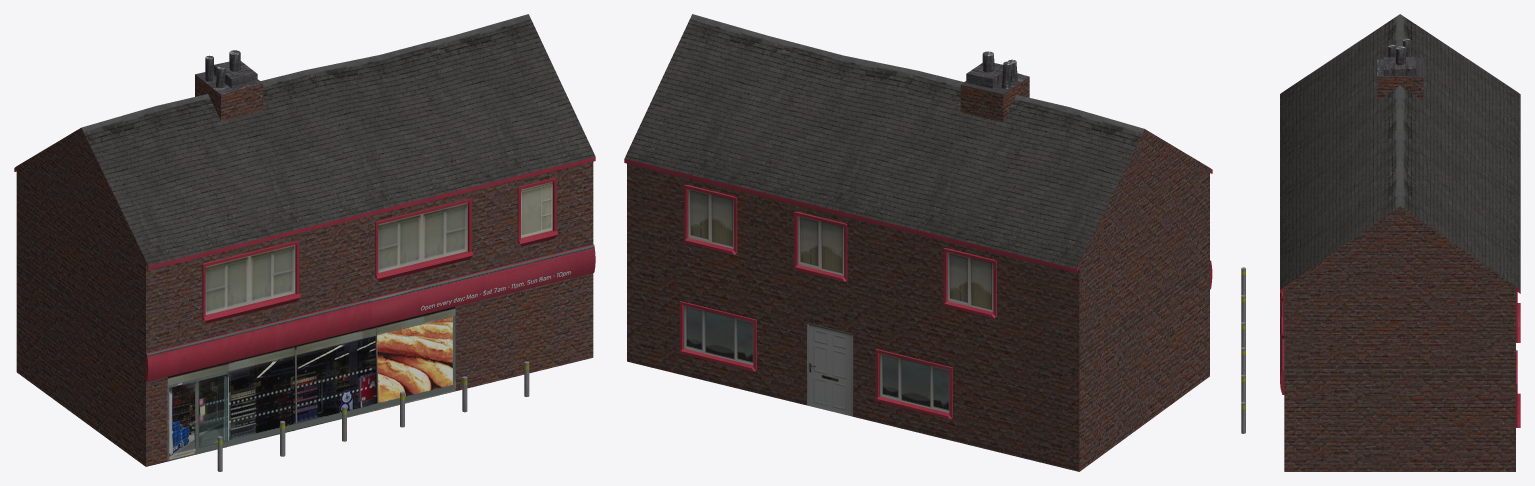
File: ukcommercialfood14.FBX
The picture shows the model from 3 angles, left to right: view 1: azimuth 30°, elevation 25°; view 2: azimuth 150°, elevation 25°; view 3: azimuth 270°, elevation 25°; orthographic projection. The views are drawn at different scales.
Parts seen in each view (by area): view 1: Box002; view 2: Box002; view 3: Box002.
Part boxes in pixels (bbox=[...]): Box002: bbox=[14, 14, 595, 471]; Box002: bbox=[624, 14, 1212, 471]; Box002: bbox=[1241, 14, 1520, 471].
Size of the model in its own units: 1600 by 1124 by 964.
